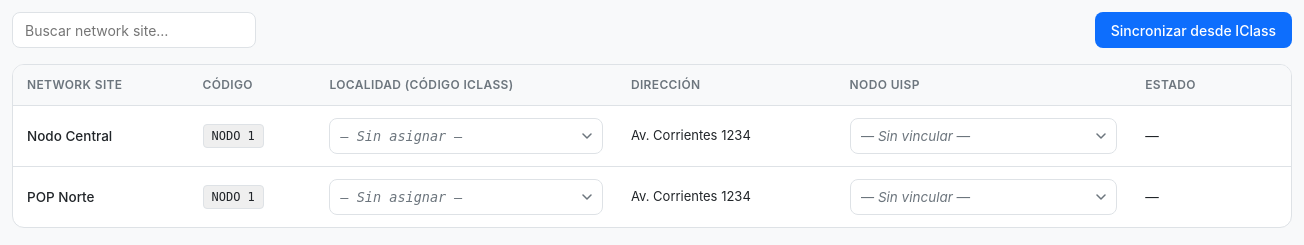
Test: UispNodeMappingBody › SCEN-FE-NM-08: client-side search filters rows by name
Expected: the text "Nodo Central" is shown, [27,128,112,144]
Expected: the text "POP Norte" is shown, [27,189,94,205]
Type "central" into the search field.
click(134, 30); type("central")  # box [12,12,256,48]
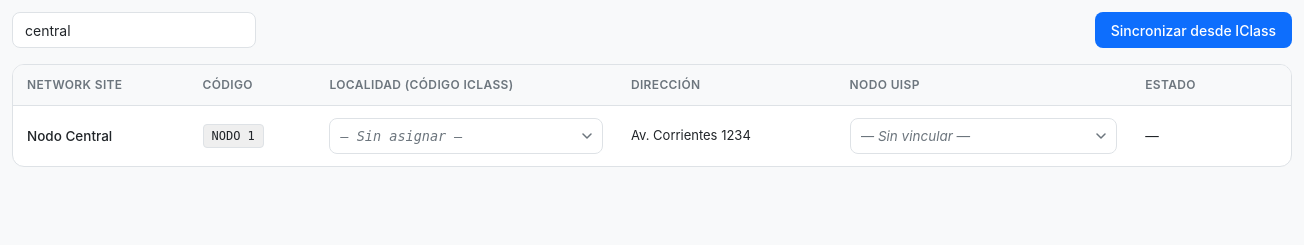
Expected: the text "Nodo Central" is shown, [27,128,112,144]
Result: the text "POP Norte" is gone
